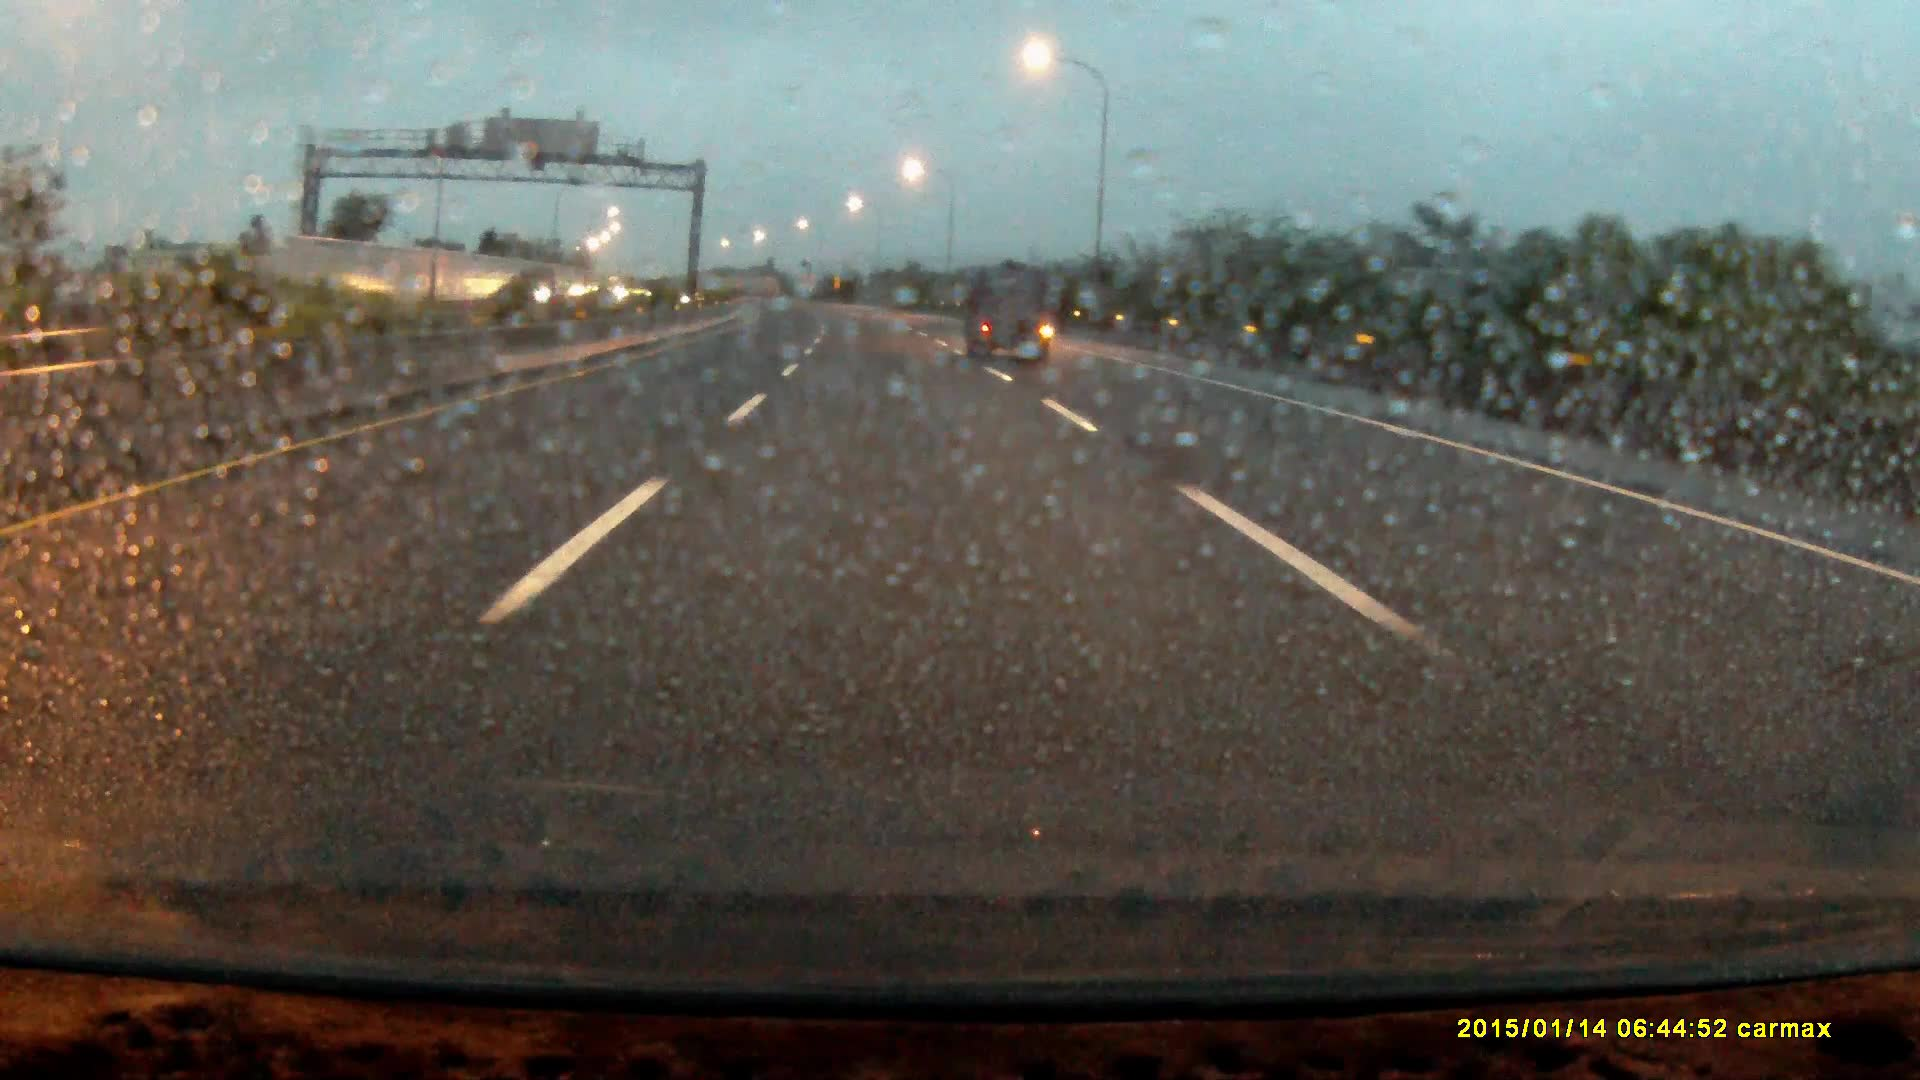vehicle: (969, 272, 1056, 363), (516, 266, 579, 313)
